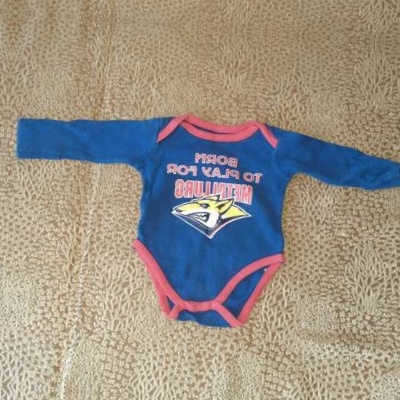Body: (6, 74, 400, 345)
